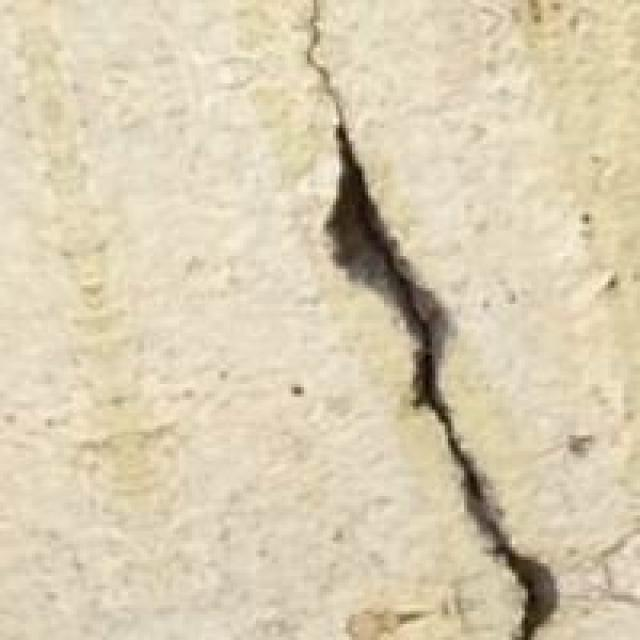crack: (278, 0, 568, 640)
